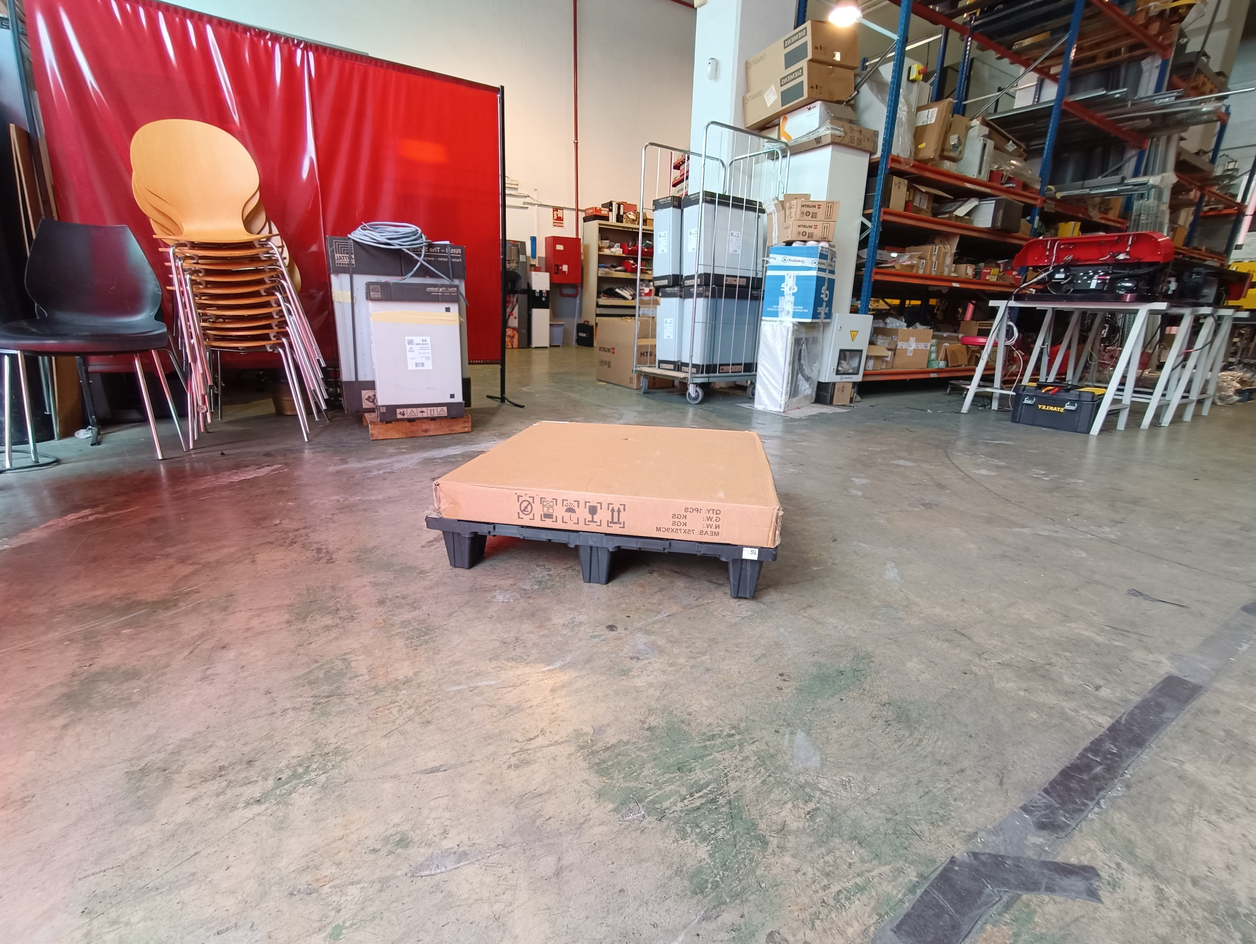block: (576, 539, 617, 591), (728, 554, 766, 605), (437, 531, 487, 566)
front: (421, 514, 786, 609)
hole pallet: (467, 537, 587, 577), (613, 553, 724, 591)
